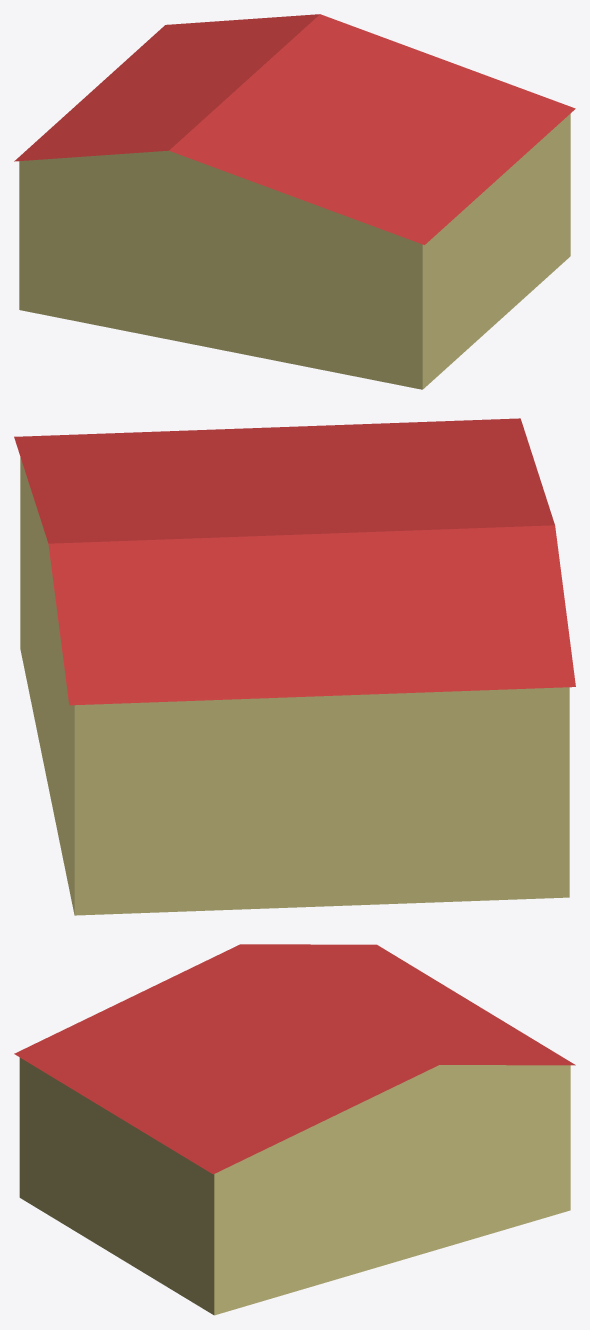
3 renders of one model, top to bottom at view 1: azimuth 30°, elevation 25°; view 2: azimuth 150°, elevation 25°; view 3: azimuth 270°, elevation 25°, orthographic. The views are drawn at different scales.
Size of the model in its own units: 34.05 by 35.53 by 12.98.
